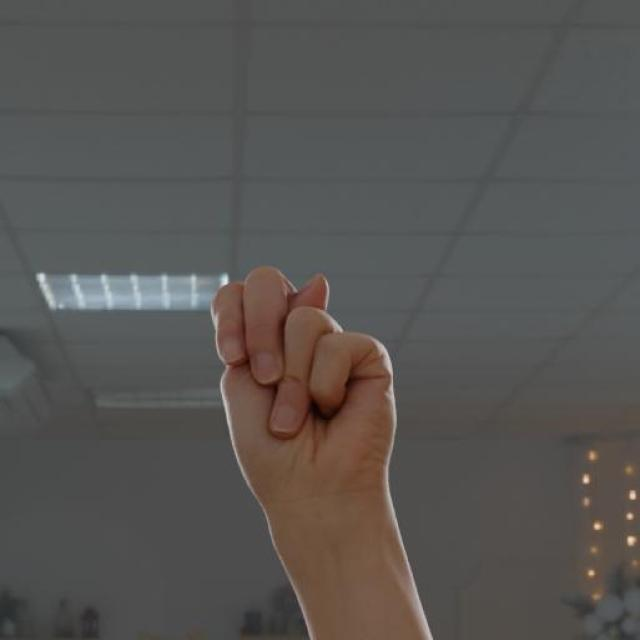N: (205, 263, 399, 519)
